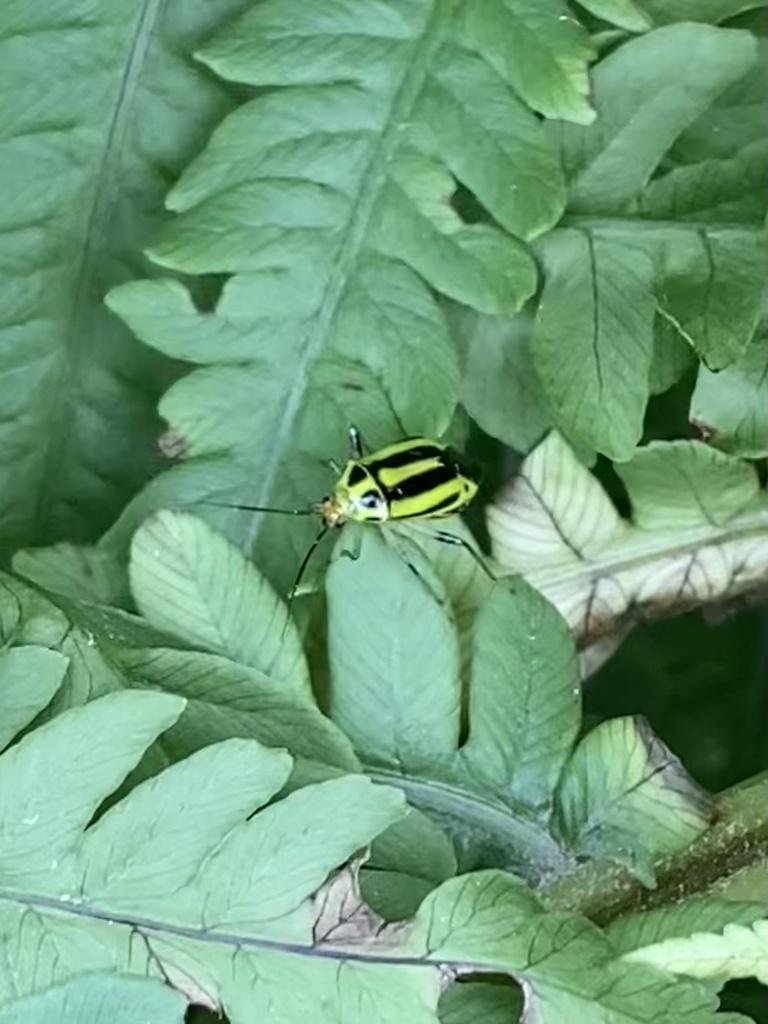plant_bugs: (189, 390, 527, 667)
